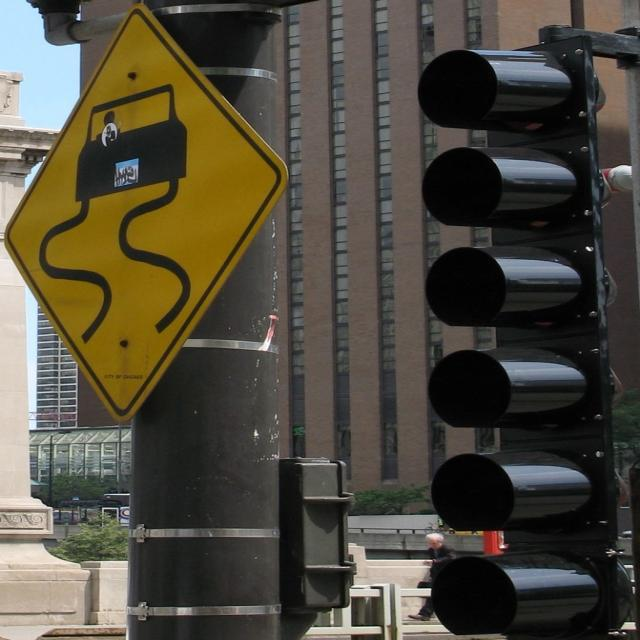traffic light: (424, 28, 611, 640)
